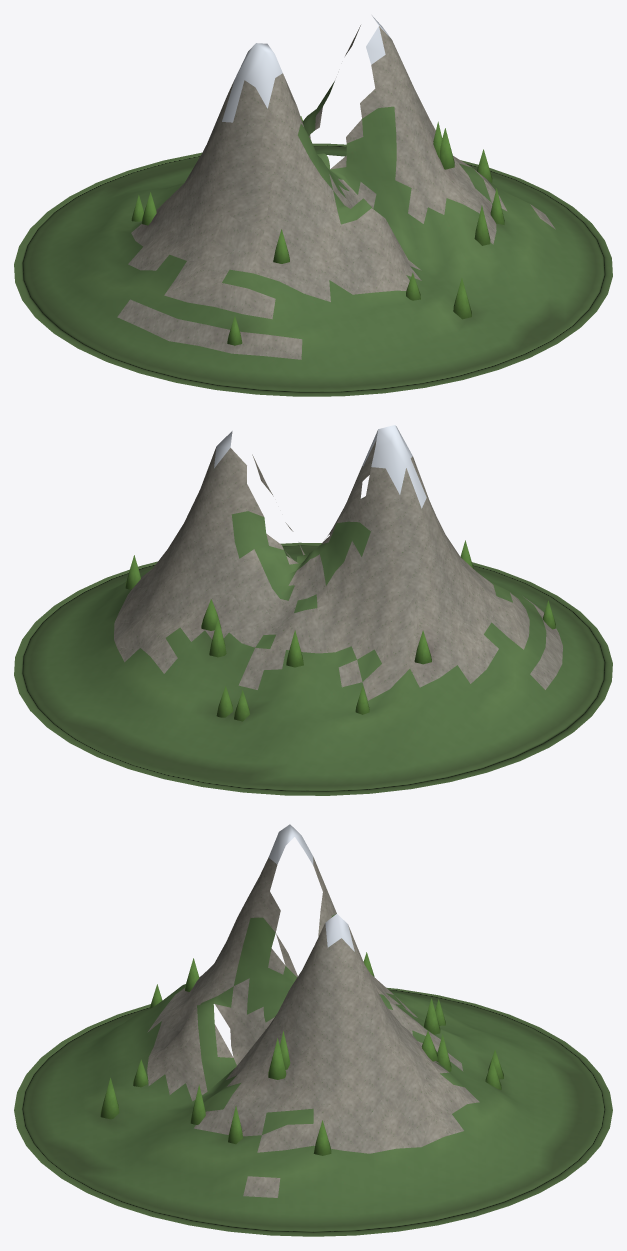
File: mountain.3.glb
3 renders of one model, top to bottom at view 1: azimuth 30°, elevation 25°; view 2: azimuth 150°, elevation 25°; view 3: azimuth 270°, elevation 25°, orthographic.
Visible parts, largest first — view 1: scenery.mountain.3; view 2: scenery.mountain.3; view 3: scenery.mountain.3.
Part boxes in pixels (x1,y1,x2,y2): scenery.mountain.3: (14, 15, 612, 396); scenery.mountain.3: (14, 425, 612, 795); scenery.mountain.3: (14, 824, 612, 1236).
Bounding box in the file's own units: 56 × 26.03 × 56.
Materials: 4 (3 with a texture image).
